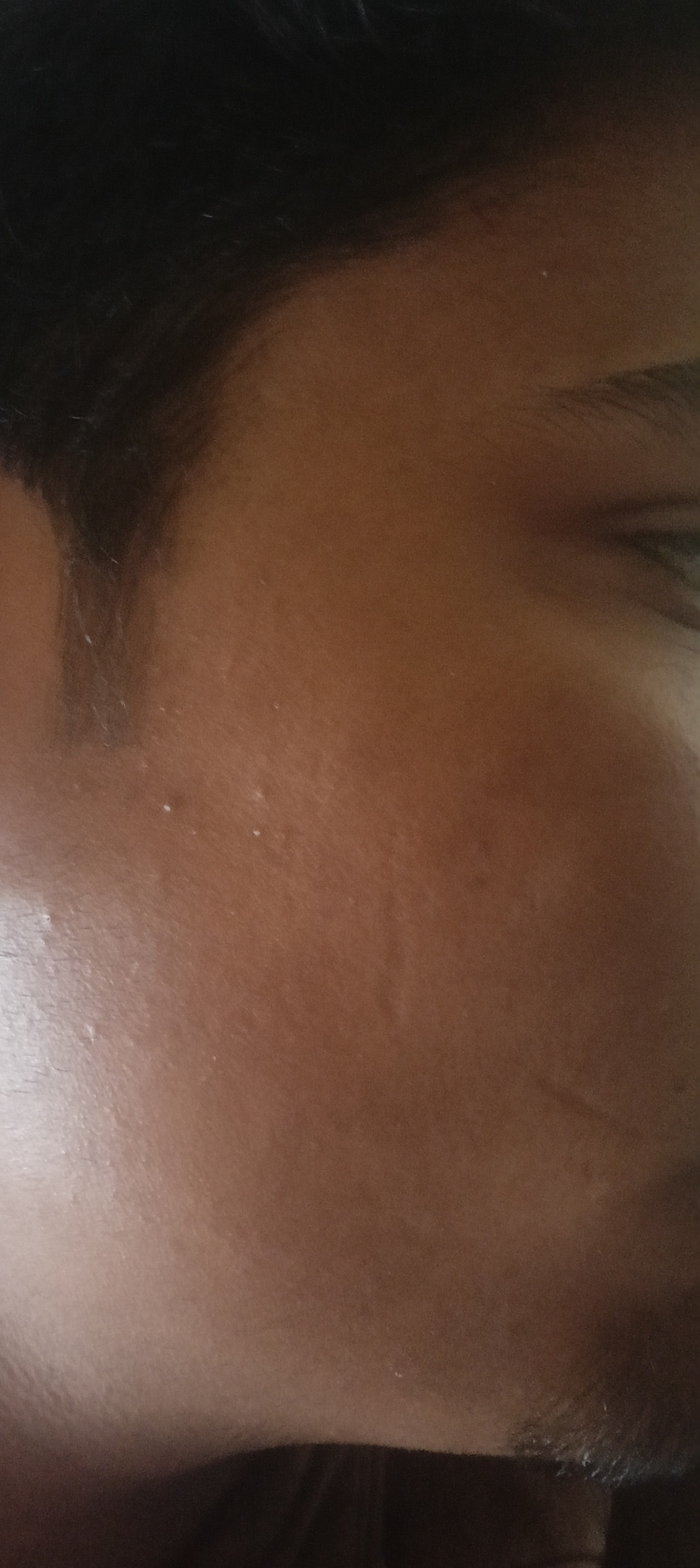closed_comedone: (134, 783, 225, 852), (23, 889, 100, 969), (243, 767, 313, 832), (69, 1013, 119, 1062)
